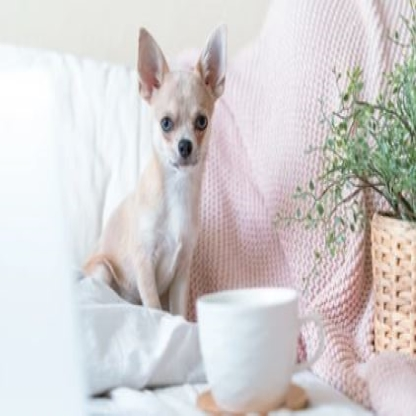chihuahua: (94, 25, 230, 316)
